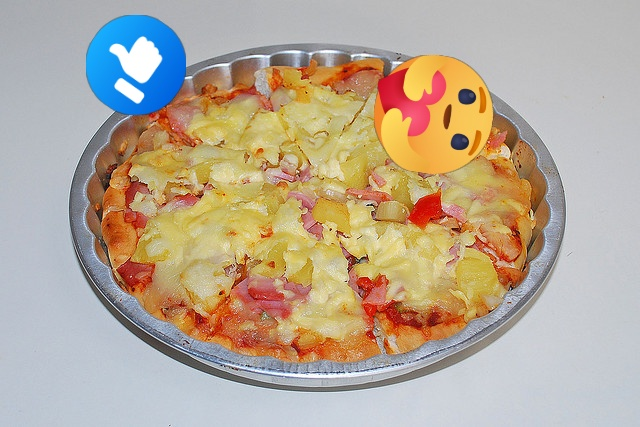care: (374, 55, 493, 174)
like: (86, 15, 186, 115)
